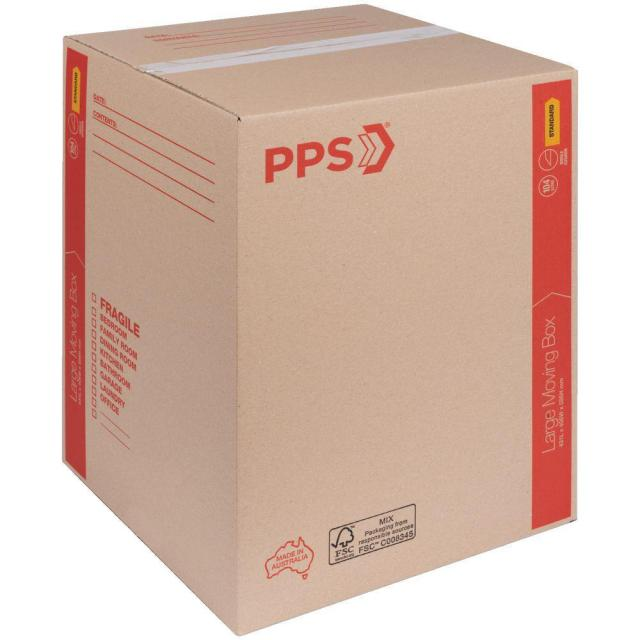Pathole: (63, 4, 582, 636)
